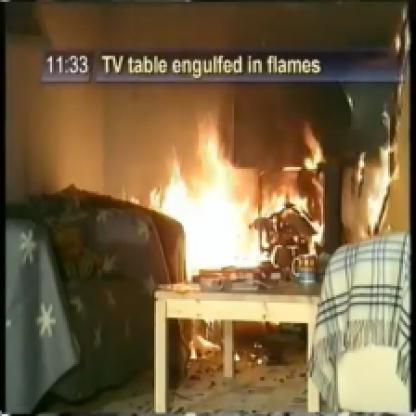fire: (138, 115, 263, 298), (218, 117, 336, 296), (338, 94, 410, 237)
